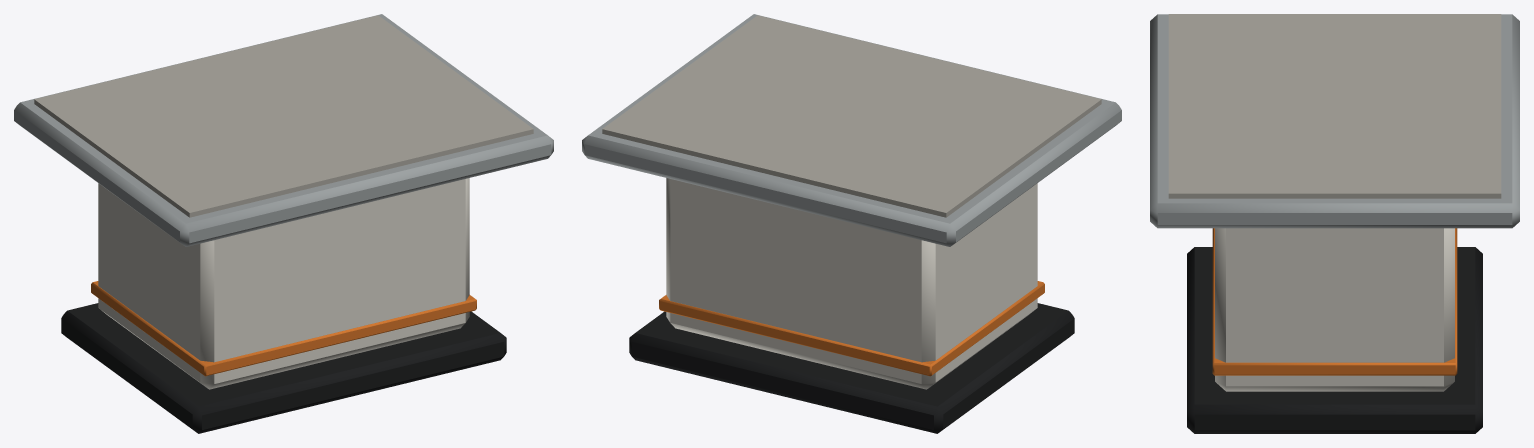
The model's file is 203_presentoir.fbx.
The picture shows the model from 3 angles, left to right: view 1: azimuth 30°, elevation 25°; view 2: azimuth 150°, elevation 25°; view 3: azimuth 270°, elevation 25°; orthographic projection. The views are drawn at different scales.
Visible parts, largest first — view 1: Presentoir, Plateau; view 2: Presentoir, Plateau; view 3: Plateau, Presentoir.
Boxes of the visible parts, x1,y1,x2,y2 form: Presentoir: (61,178,506,433); Plateau: (14,14,553,246); Presentoir: (629,178,1074,433); Plateau: (582,14,1121,246); Plateau: (1150,14,1519,228); Presentoir: (1187,228,1482,433).
Bounding box in the file's own units: 1.4 × 0.84 × 1.12.
Materials: 1 (1 with a texture image).
